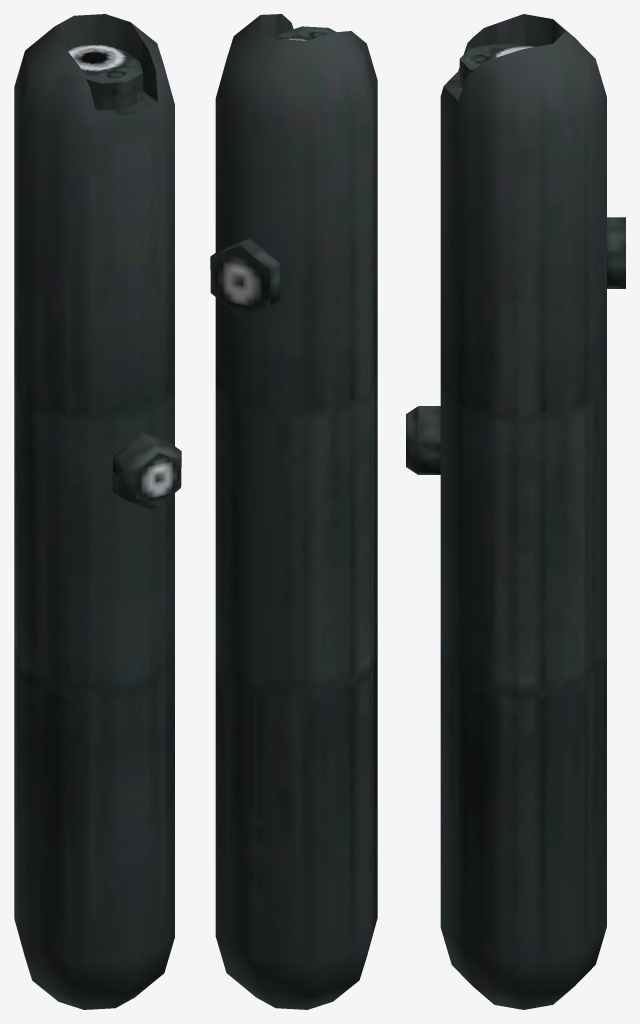
The model's file is wp_mle_2h_sword_lightsaber_sleekblack_l0.fbx.
The picture shows the model from 3 angles, left to right: view 1: azimuth 30°, elevation 25°; view 2: azimuth 150°, elevation 25°; view 3: azimuth 270°, elevation 25°; orthographic projection.
Parts seen in each view (by area): view 1: mesh_node; view 2: mesh_node; view 3: mesh_node.
Boxes of the visible parts, x1,y1,x2,y2 form: mesh_node: (14, 14, 181, 1009); mesh_node: (210, 14, 377, 1009); mesh_node: (406, 14, 625, 1009).
Size of the model in its own units: 0.0355 by 0.2262 by 0.0469.
